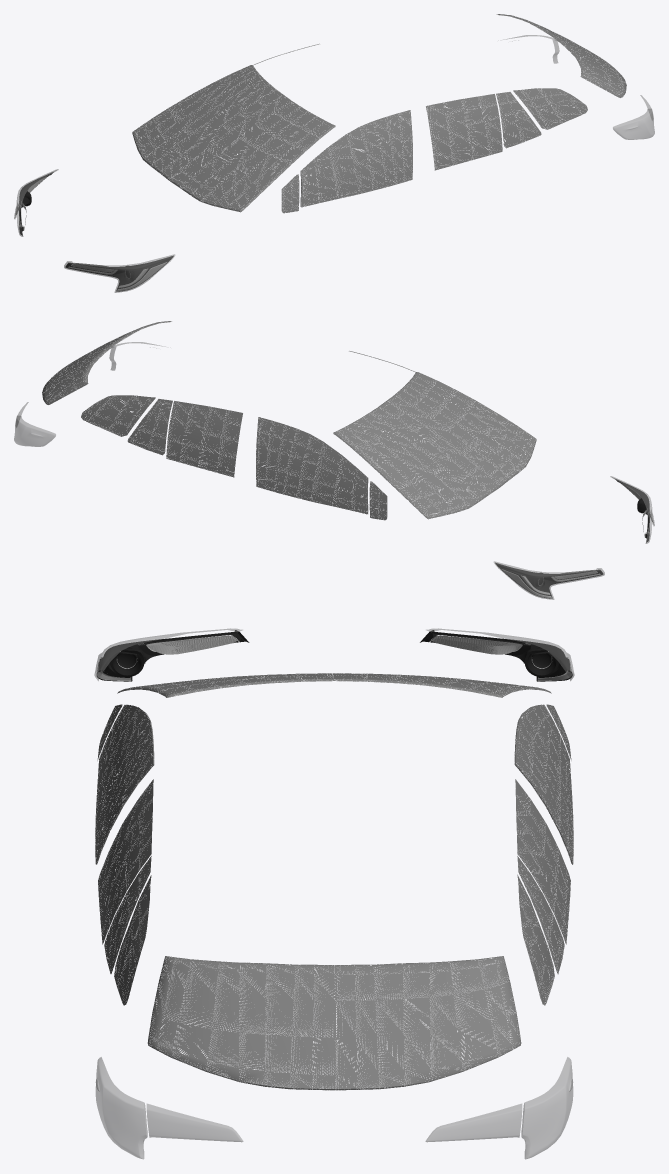
Rendered from Altis_Glass5.glb.
The picture shows the model from 3 angles, top to bottom: view 1: azimuth 30°, elevation 25°; view 2: azimuth 150°, elevation 25°; view 3: azimuth 270°, elevation 25°; orthographic projection. The views are drawn at different scales.
Parts seen in each view (by area): view 1: Exterior_Windows, Exterior_HeadCover, Exterior_HeadLight; view 2: Exterior_Windows, Exterior_HeadCover, Exterior_HeadLight; view 3: Exterior_Windows, Exterior_HeadCover, Exterior_HeadLight.
Part boxes in pixels (bbox=[...]): Exterior_Windows: bbox=[132, 14, 626, 213]; Exterior_HeadCover: bbox=[14, 35, 654, 292]; Exterior_HeadLight: bbox=[15, 170, 173, 291]; Exterior_Windows: bbox=[42, 321, 536, 520]; Exterior_HeadCover: bbox=[14, 342, 654, 599]; Exterior_HeadLight: bbox=[495, 477, 653, 598]; Exterior_Windows: bbox=[95, 673, 573, 1090]; Exterior_HeadCover: bbox=[94, 628, 574, 1159]; Exterior_HeadLight: bbox=[96, 630, 572, 681].
Size of the model in its own units: 4.33 by 0.7796 by 1.57.
Materials: 3 (2 with a texture image).
